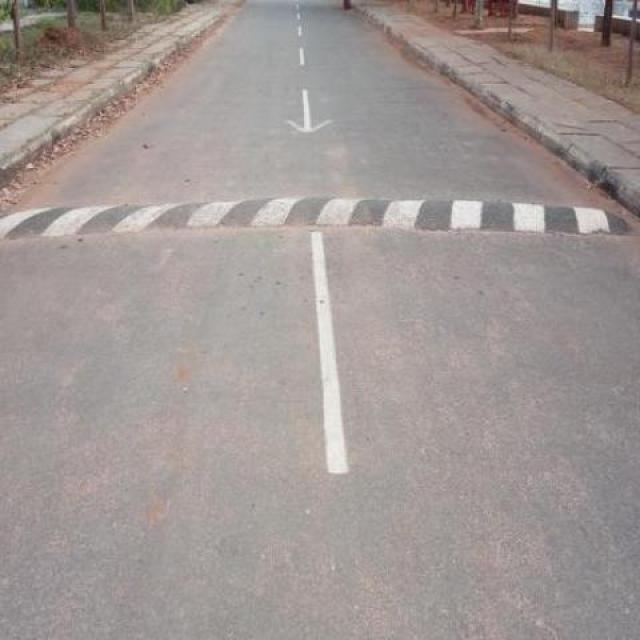Speed Bump: (0, 190, 631, 246)
